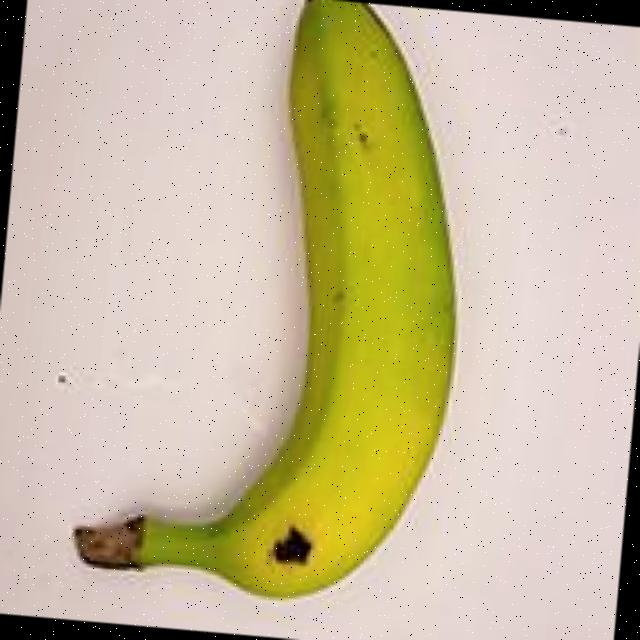Unripe: (57, 0, 502, 618)
